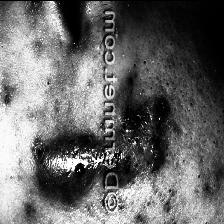Non-Cancerous Skin Condition: (37, 90, 167, 213), (0, 90, 13, 110), (29, 0, 40, 16)
